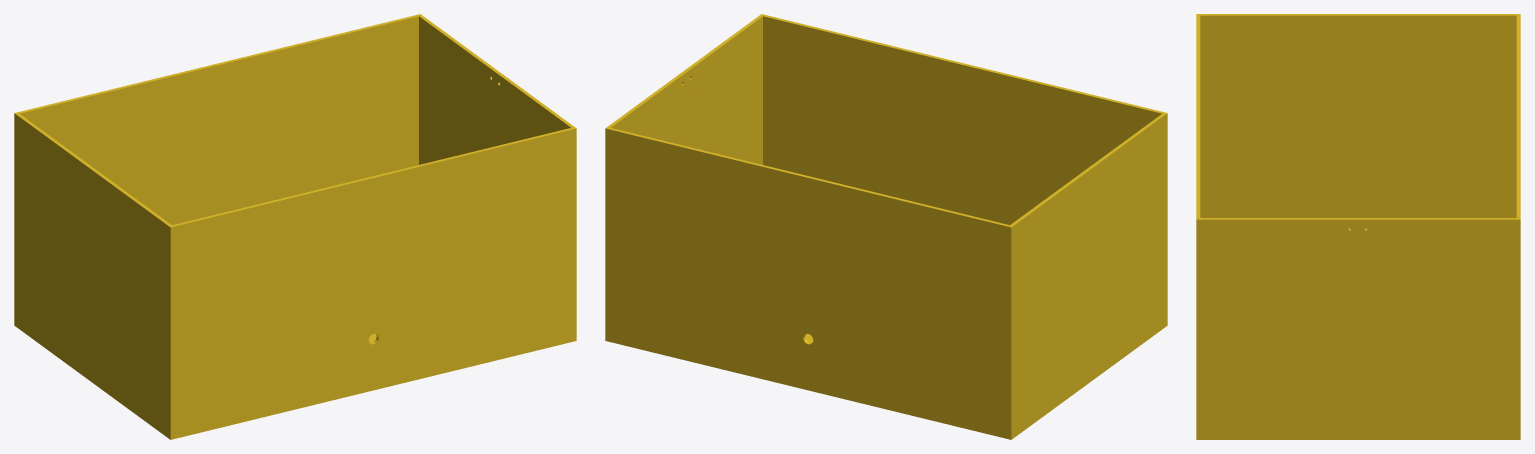
The model's file is body.dae.
3 views of the same model, side by side, from view 1: azimuth 30°, elevation 25°; view 2: azimuth 150°, elevation 25°; view 3: azimuth 270°, elevation 25° (orthographic). The views are drawn at different scales.
Visible parts, largest first — view 1: Body.001; view 2: Body.001; view 3: Body.001.
Part boxes in pixels (bbox=[...]): Body.001: bbox=[14, 14, 576, 439]; Body.001: bbox=[605, 14, 1167, 439]; Body.001: bbox=[1196, 14, 1520, 439].
Bounding box in the file's own units: 1.2 × 0.8 × 0.6.
